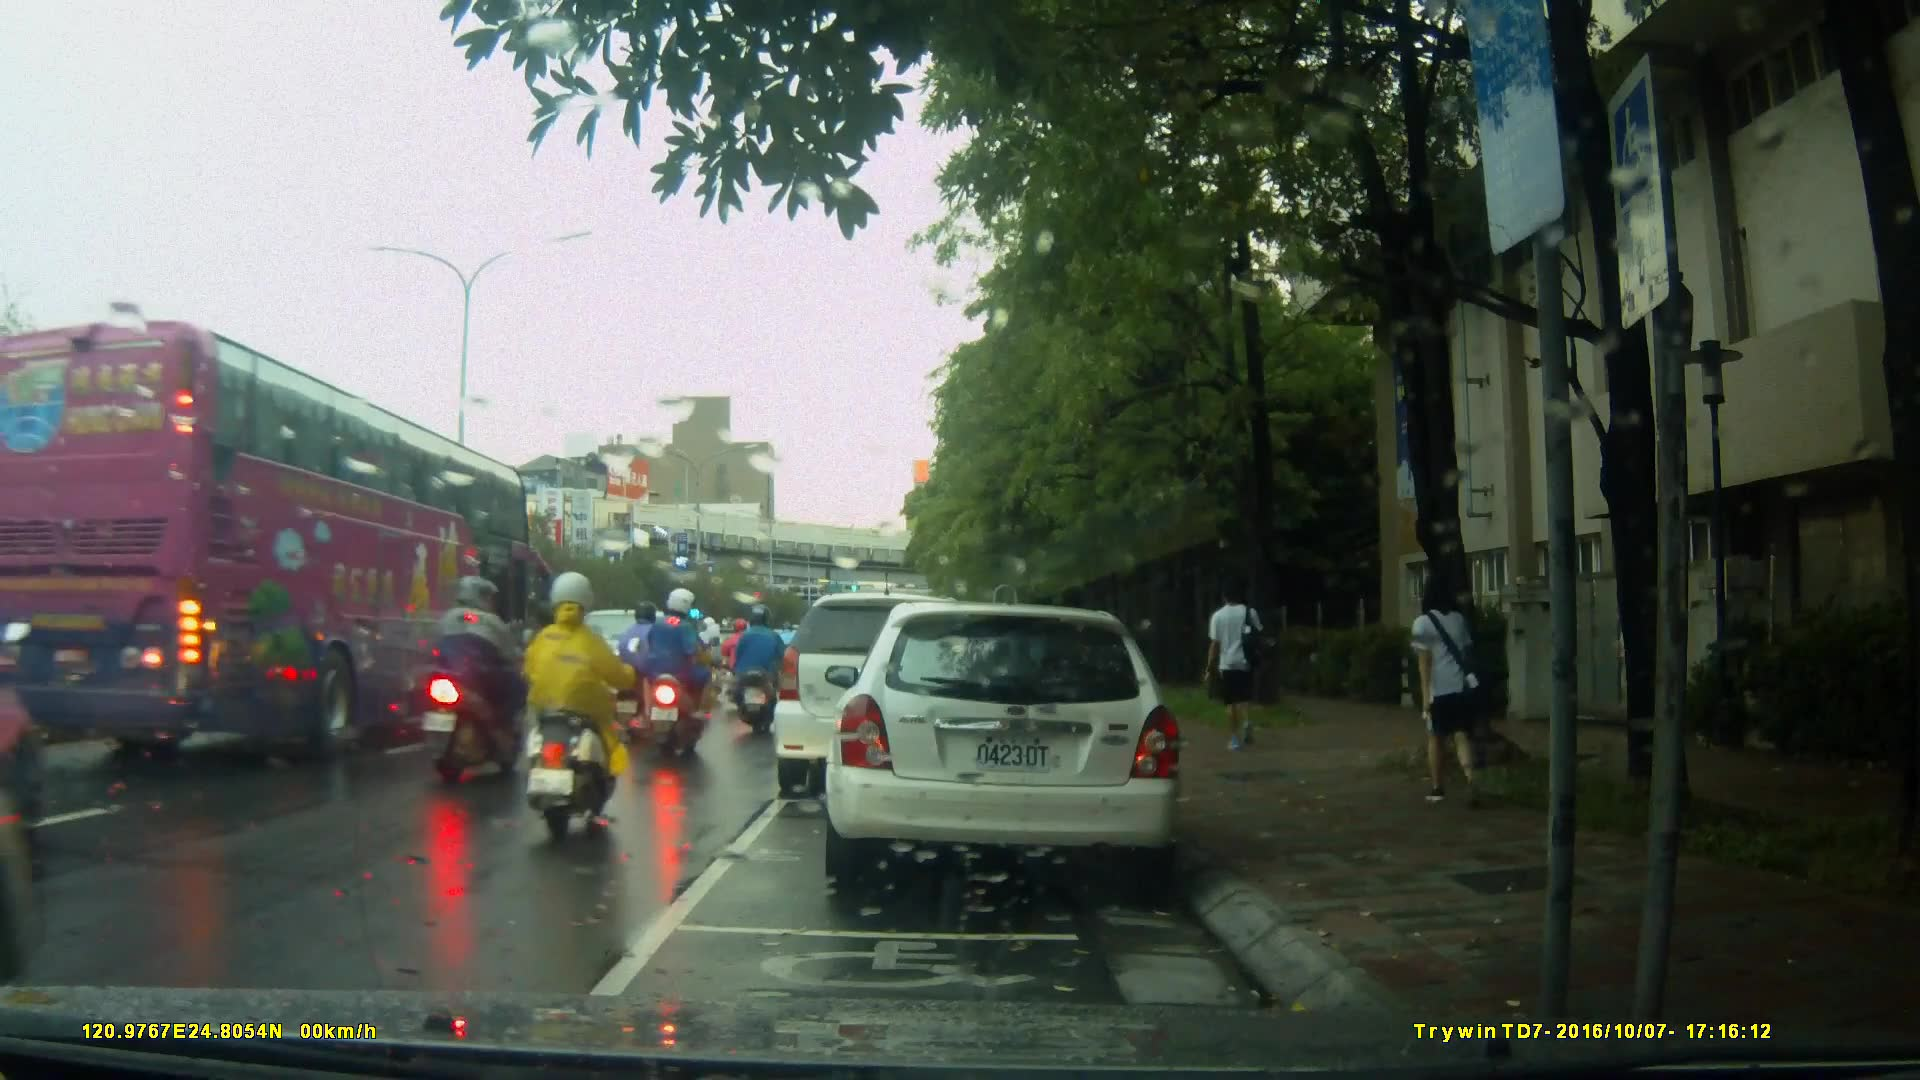pedestrian: (1394, 570, 1483, 815), (1194, 578, 1262, 757)
rider: (521, 568, 623, 842), (430, 570, 535, 789), (640, 583, 710, 779), (728, 603, 792, 743), (618, 598, 673, 740), (721, 616, 765, 704), (777, 619, 810, 689)
vehicle: (8, 321, 546, 756), (835, 594, 1194, 898), (776, 590, 1026, 784), (549, 607, 713, 740)
